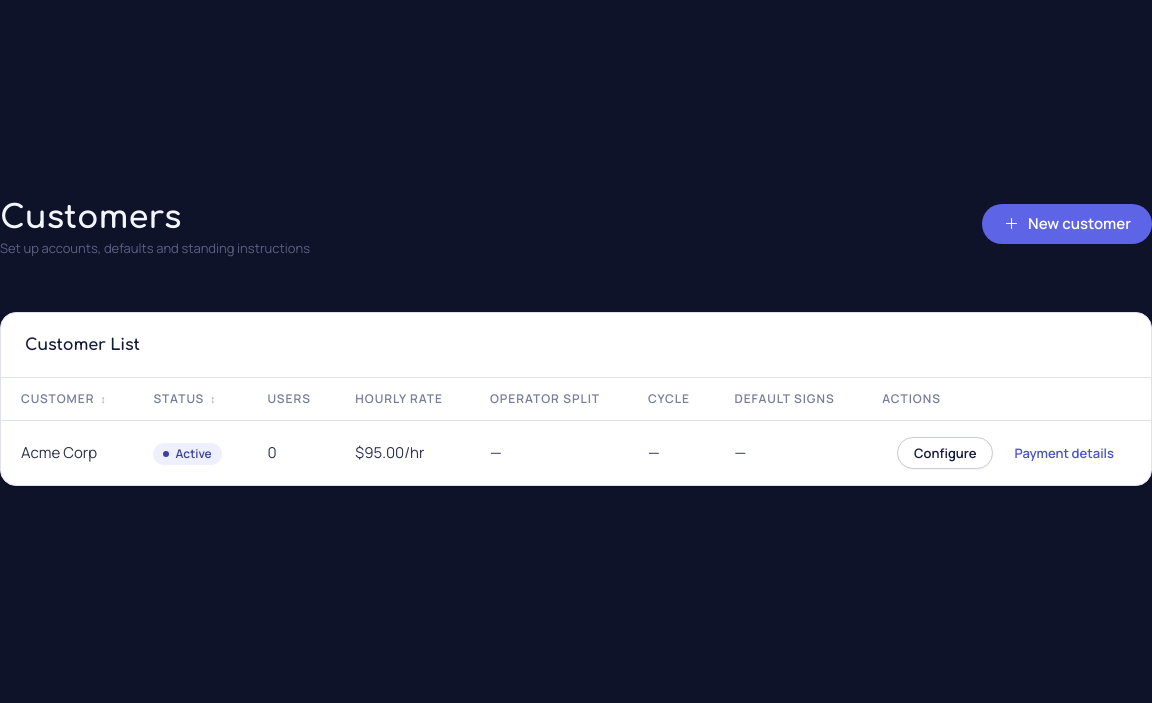
Operator Customers Page › suspends and reactivates a customer account from the configure panel
Expected: the text "Acme Corp" is shown, [21,442,97,463]
Click the button with aria-label "configure customer acme corp".
click(945, 453)  # box [897,437,994,469]
(page scrolled)
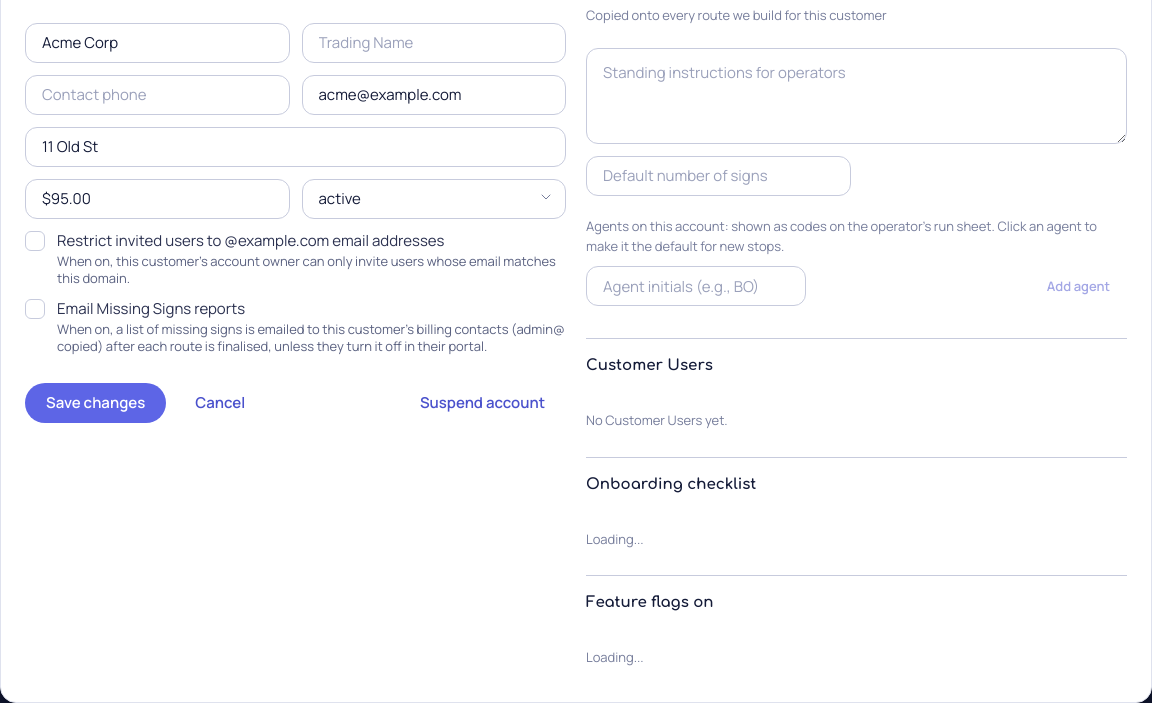
Click the button with aria-label "suspend account acme corp".
click(482, 402)  # box [399,382,566,422]
(page scrolled)
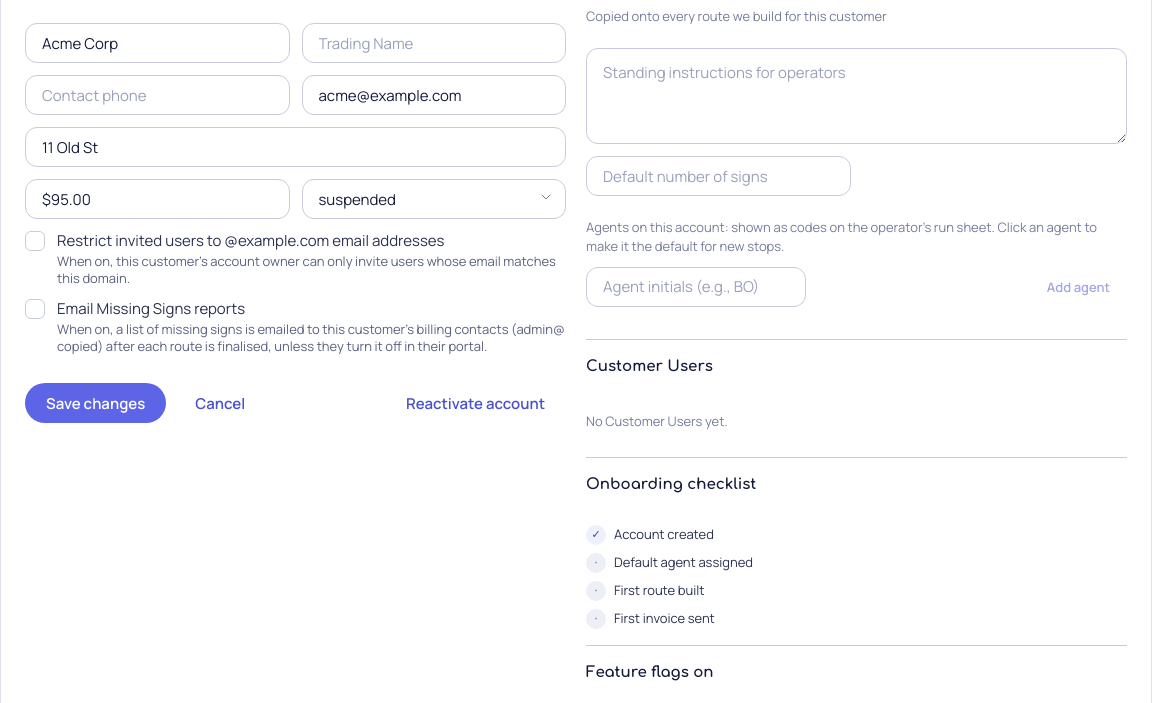
Expected: the button with aria-label "reactivate account acme corp" is shown, [385,383,566,423]
